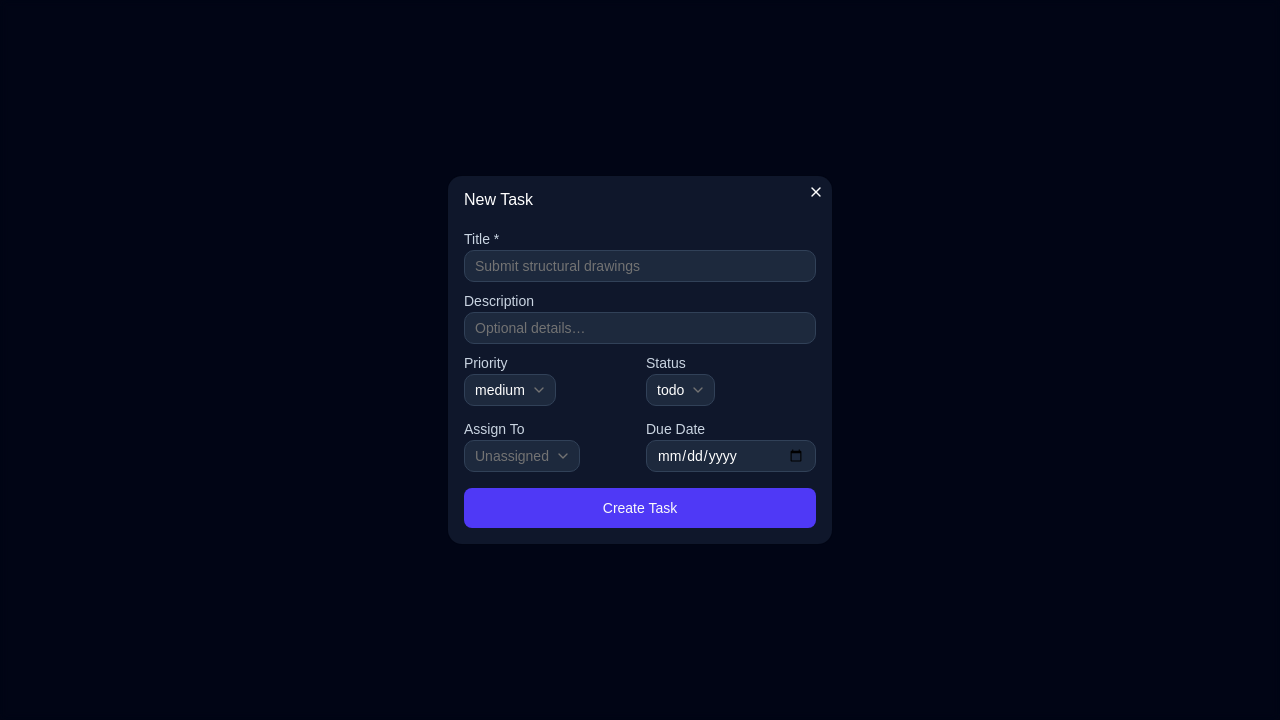
Test: shows error message on submit failure
Type "Test task" into the field labelled "Title *" at x=640, y=266, box [464,250,816,282]
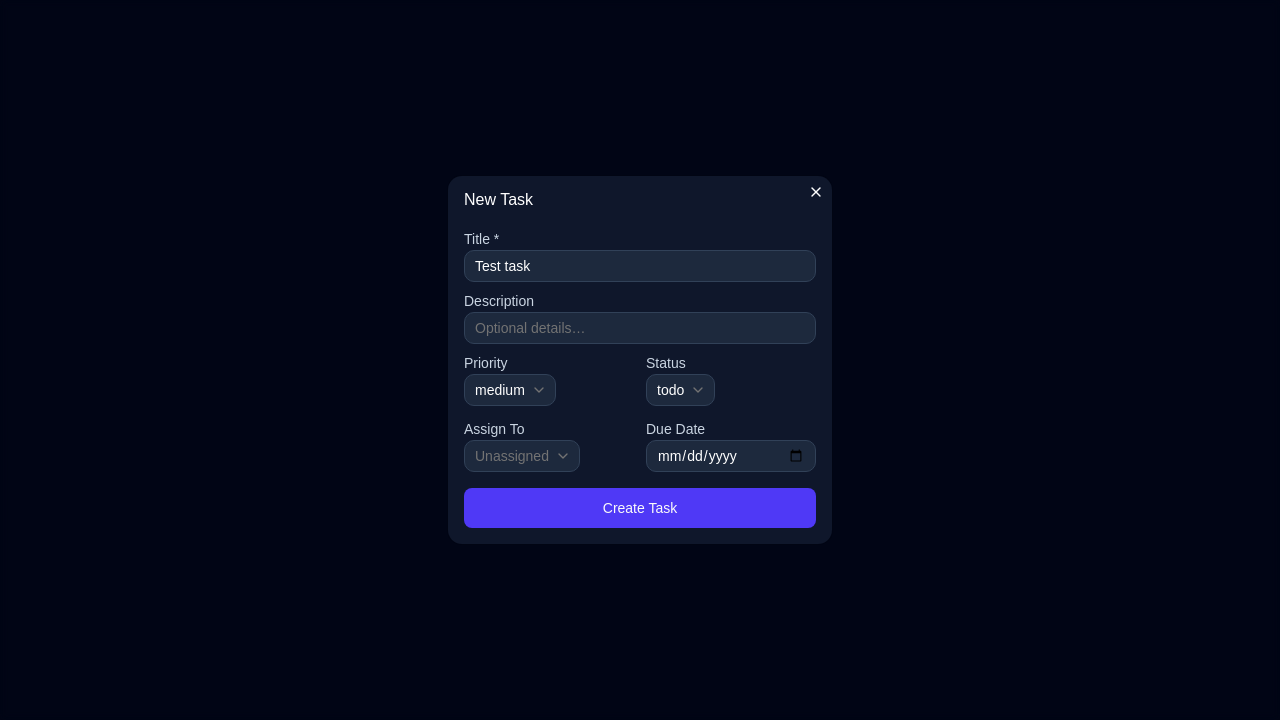
Click the button "Create Task" at x=640, y=508, box [464,488,816,528]
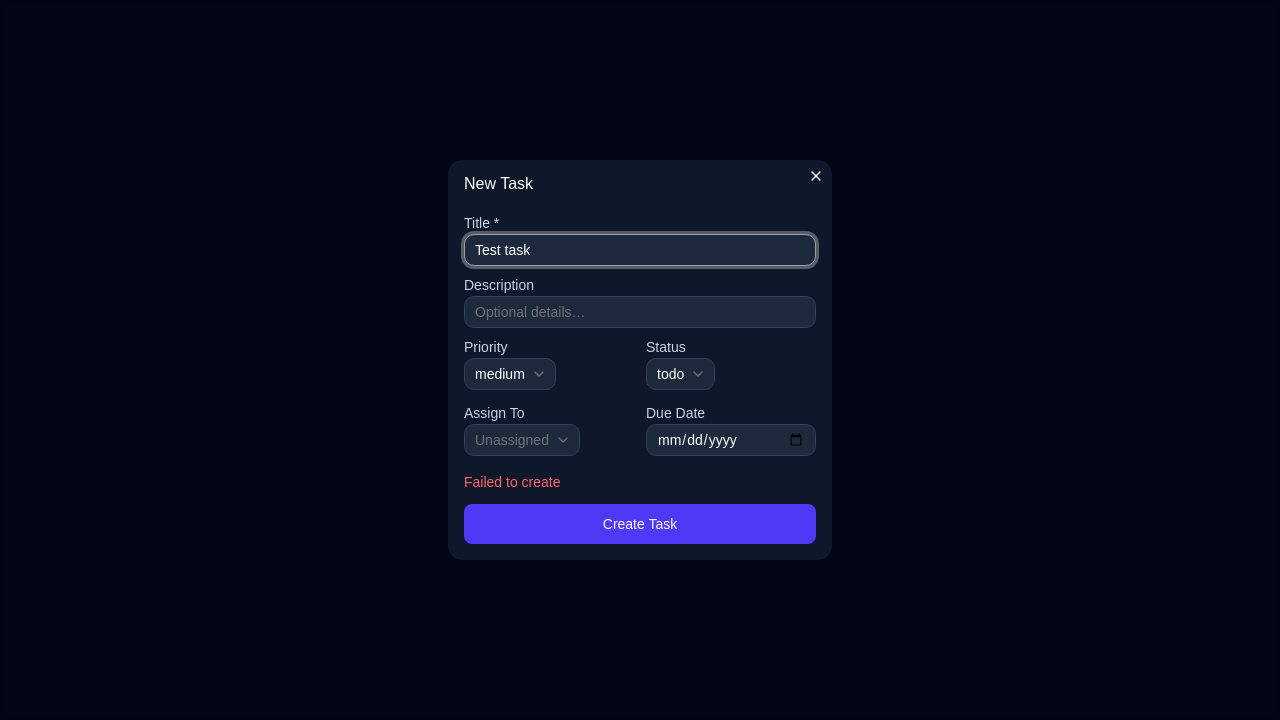
Expected: the text "Failed to create" is shown, [464,474,560,490]
